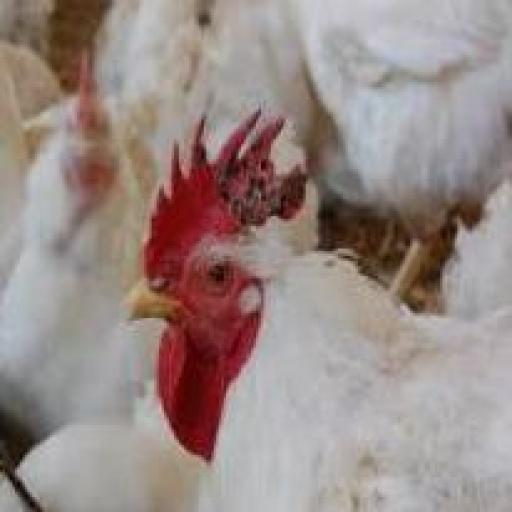disease: (217, 148, 313, 232), (188, 132, 210, 165)
